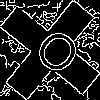O: (25, 25, 85, 86)
